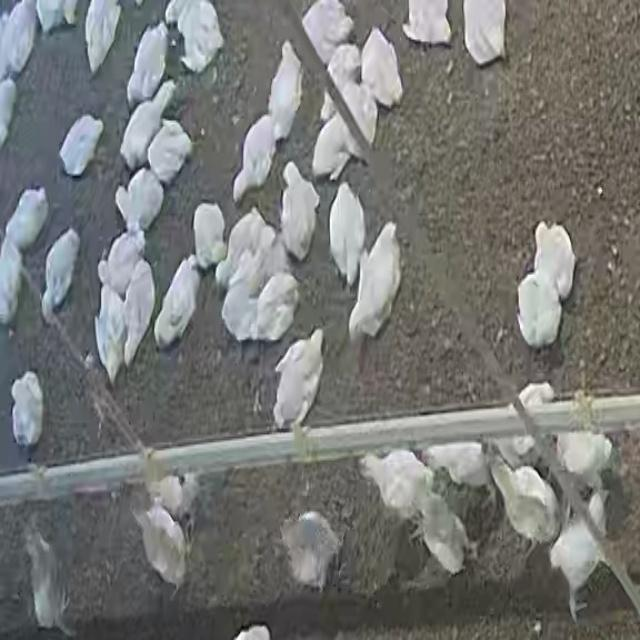chicken: (348, 223, 402, 346), (553, 493, 608, 603), (272, 513, 350, 586), (272, 331, 325, 432), (412, 488, 470, 578), (493, 464, 559, 536), (155, 258, 202, 352), (134, 507, 192, 582), (120, 78, 173, 157), (232, 116, 278, 203), (312, 110, 364, 184), (328, 183, 366, 284), (359, 448, 426, 505), (280, 163, 319, 260), (531, 219, 580, 296), (41, 229, 80, 324), (93, 283, 129, 385), (122, 259, 156, 366), (360, 26, 403, 109), (420, 441, 492, 490), (172, 0, 228, 62), (268, 38, 302, 140), (209, 207, 260, 274), (116, 167, 166, 235), (100, 226, 148, 296), (512, 276, 560, 345), (252, 275, 300, 344), (127, 26, 170, 102), (147, 118, 192, 185), (3, 188, 49, 253), (58, 115, 104, 177), (300, 0, 352, 54), (10, 372, 44, 448), (192, 201, 228, 271), (0, 240, 25, 325), (84, 2, 114, 69)
